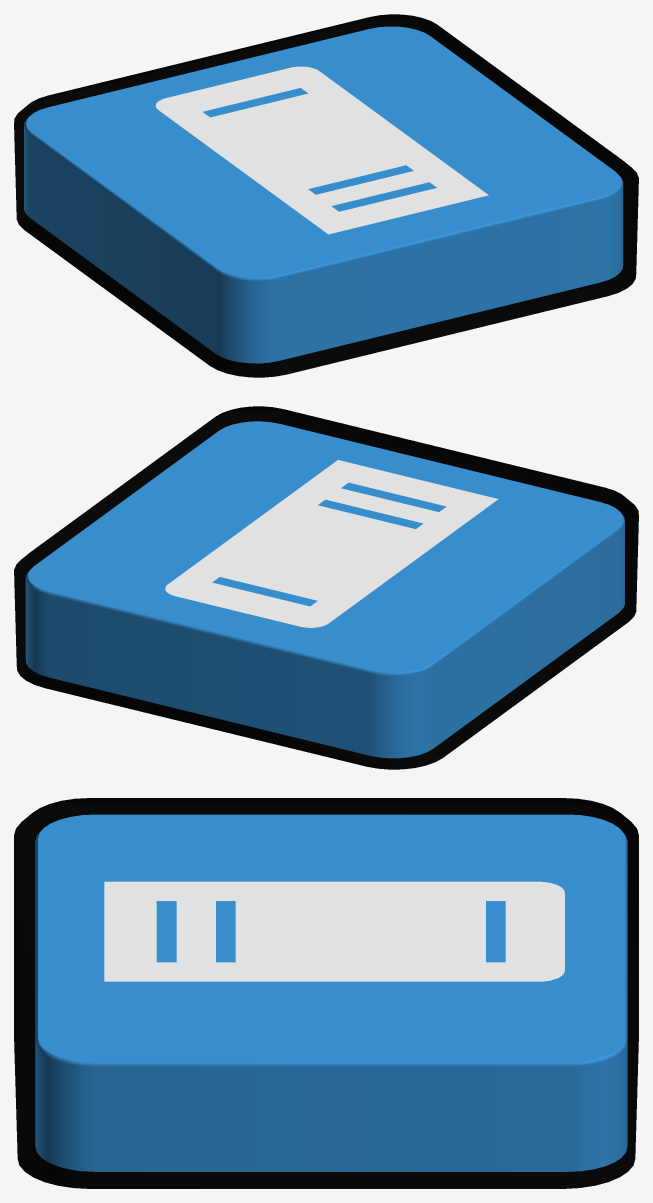
The model's file is PhysicalServer.obj.
The picture shows the model from 3 angles, top to bottom: view 1: azimuth 30°, elevation 25°; view 2: azimuth 150°, elevation 25°; view 3: azimuth 270°, elevation 25°; orthographic projection. The views are drawn at different scales.
Visible parts, largest first — view 1: PhysicalServer; view 2: PhysicalServer; view 3: PhysicalServer.
Boxes of the visible parts, x1,y1,x2,y2 form: PhysicalServer: [14, 14, 638, 377]; PhysicalServer: [14, 406, 638, 769]; PhysicalServer: [14, 798, 638, 1188].
Size of the model in its own units: 1.06 by 0.2484 by 1.06.
